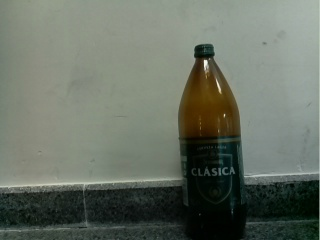pote cristal: (178, 45, 245, 240)
